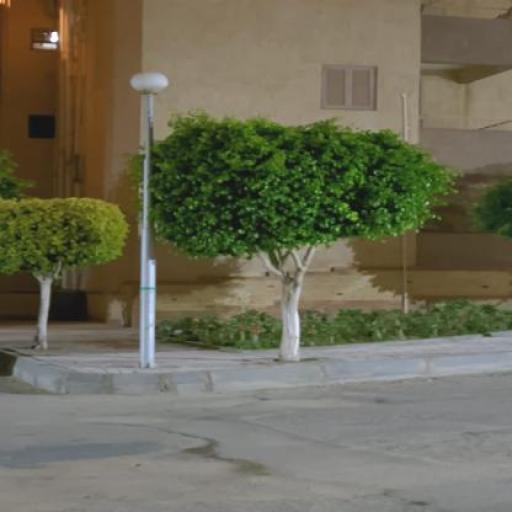street light: (129, 72, 169, 370)
